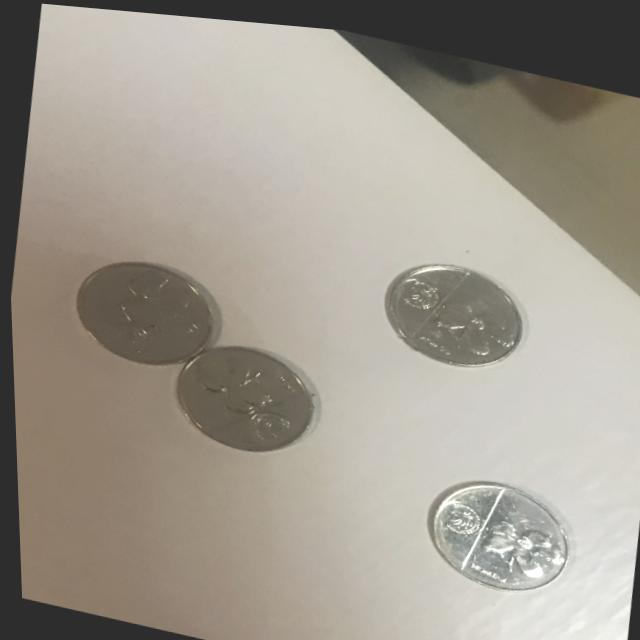25Cent_New_Back: (445, 483, 575, 581), (82, 262, 196, 367), (405, 264, 520, 359), (184, 348, 291, 444)
